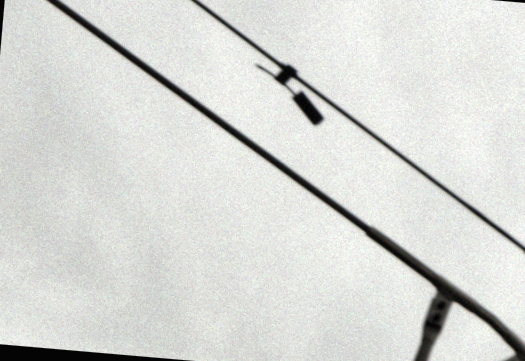damper_defect: (250, 57, 326, 130)
